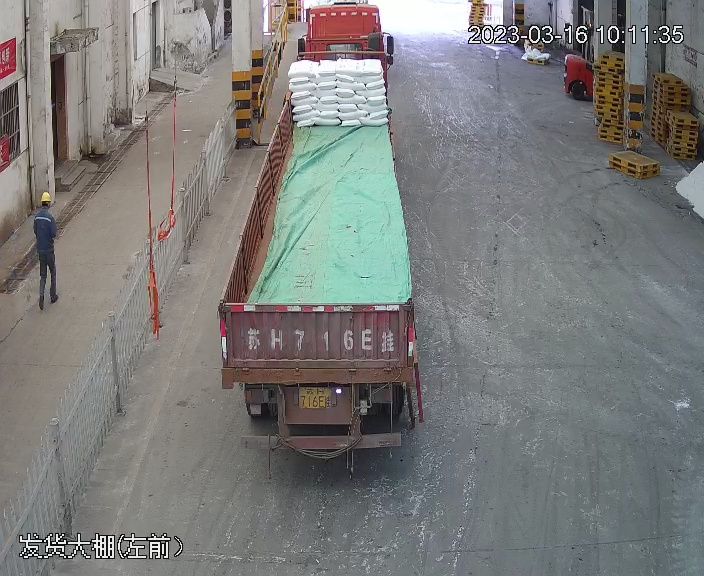head: (31, 190, 57, 226)
helmet: (39, 190, 53, 203)
people: (29, 189, 64, 311)
truck: (213, 4, 421, 454)
